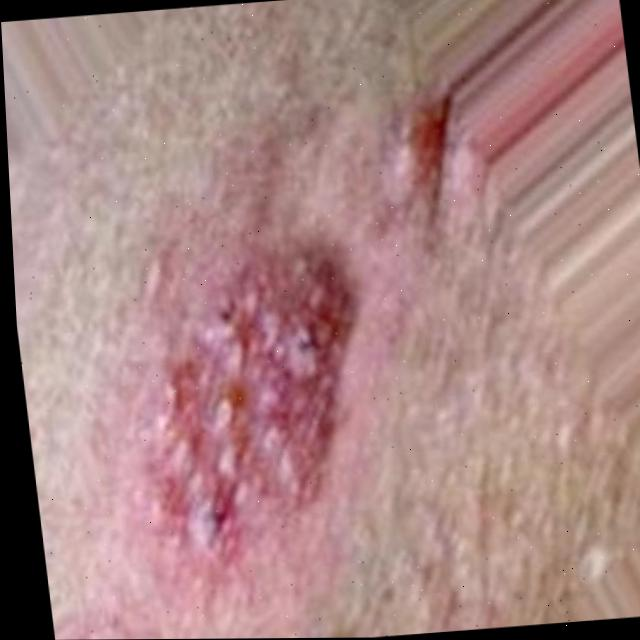Shingles: (113, 250, 381, 550), (381, 117, 449, 189)
